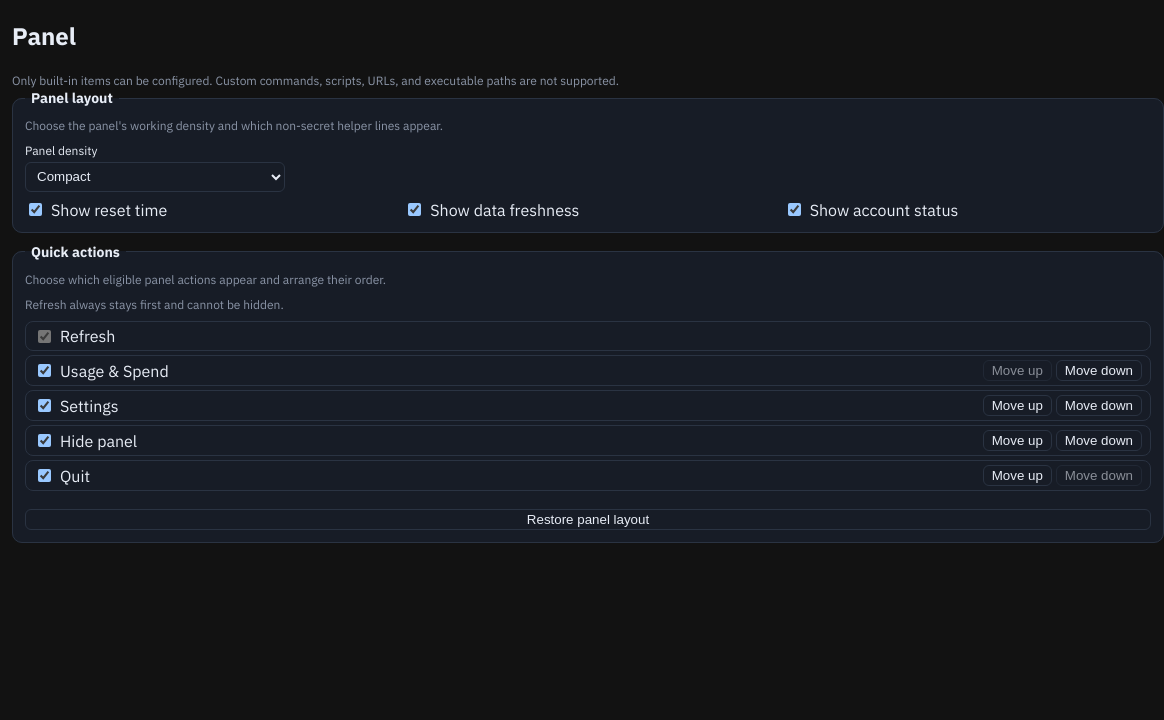
MenuTab › shows a localized save failure without leaking the raw error
Select "Standard" in the dropdown labelled "Panel density" at [155, 177], box x1=25 y1=162 x2=285 y2=192
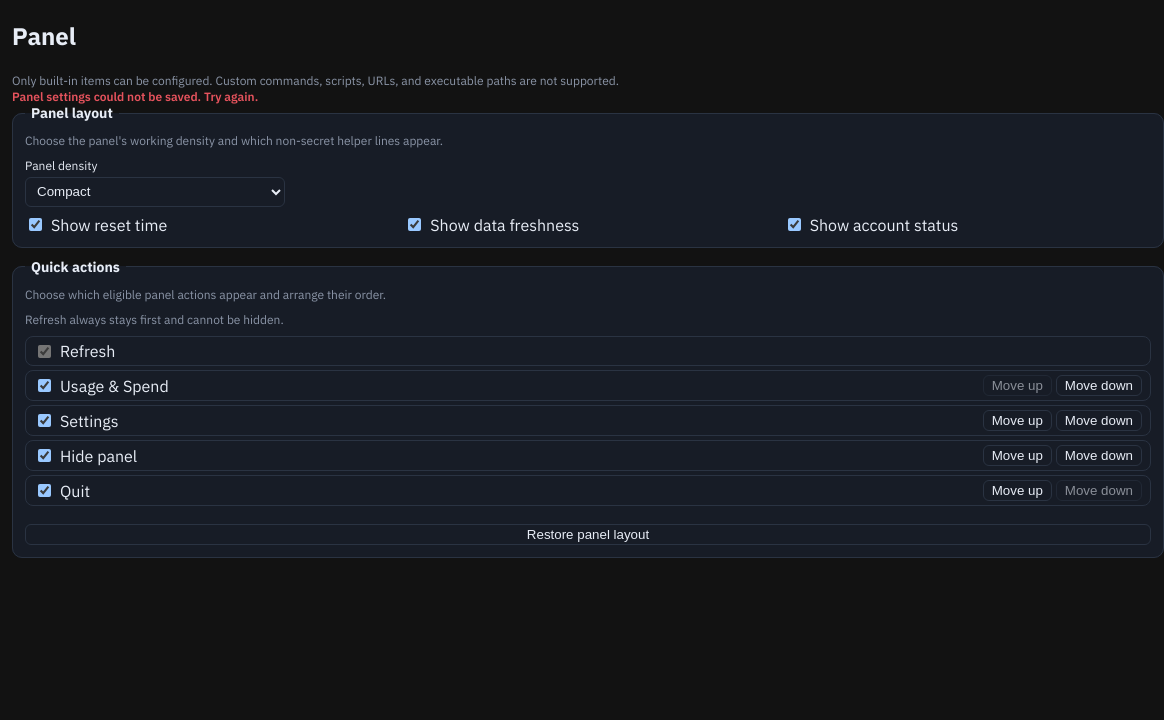
expect the message reads "Panel settings could not be saved. Try again.": met, box x1=12 y1=89 x2=258 y2=104
